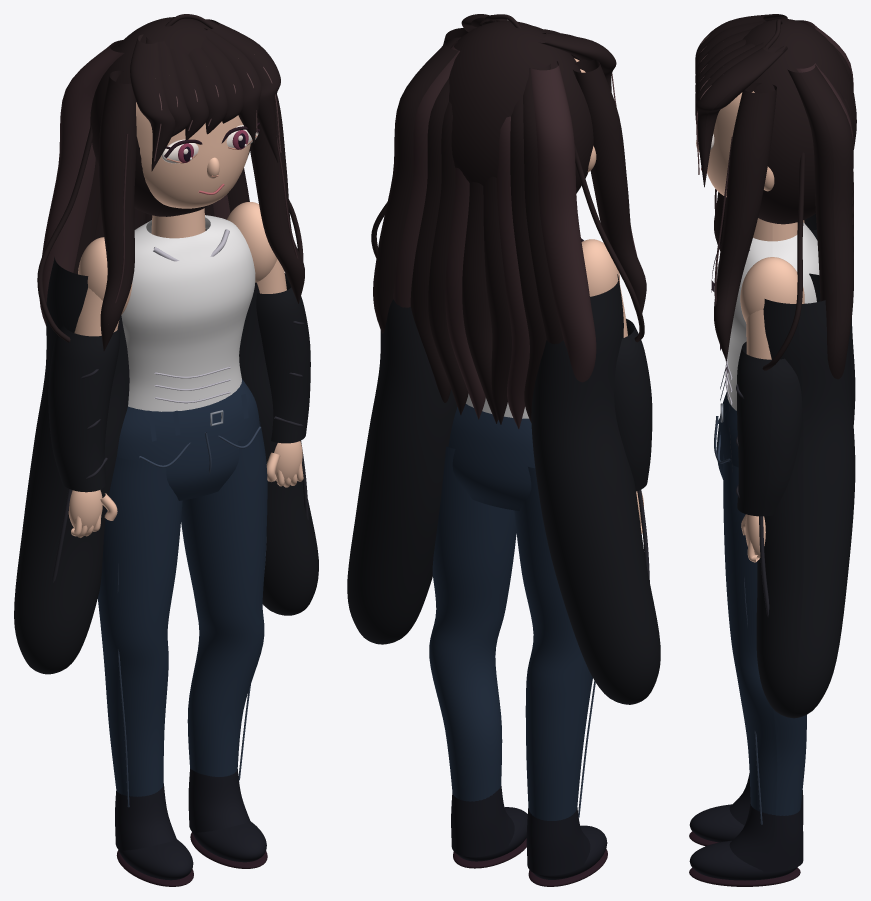
File: nico_lady_luck.glb
3 renders of one model, left to right at view 1: azimuth 30°, elevation 25°; view 2: azimuth 150°, elevation 25°; view 3: azimuth 270°, elevation 25°, orthographic. The views are drawn at different scales.
Visible parts, largest first — view 1: Slim dark jeans leg (×2), Long open coat tail (×2), White sleeveless top, Loose fallen coat sleeve (×2), Pointed swept fringe (×7), Long face framing lock (×2), Fitted denim hips, Long tapered back hair (×2), Ankle boot (×2), Tapered face, Hair volume behind head, Rounded boot toe (×2) (+6 smaller); view 2: Long tapered back hair (×11), Long open coat tail (×2), Slim dark jeans leg (×2), Hair volume behind head, Fitted denim hips, Ankle boot (×2), Long face framing lock, Loose fallen coat sleeve, Rounded boot toe (×2), Bare shoulder, Pointed swept fringe, Boot sole (×2) (+1 smaller); view 3: Long open coat tail (×2), Slim dark jeans leg, Long tapered back hair, Hair volume behind head, Loose fallen coat sleeve, Long face framing lock (×2), Pointed swept fringe (×7), Ankle boot (×2), White sleeveless top, Rounded boot toe (×2), Bare shoulder, Tapered face (+8 smaller).
Part boxes in pixels (x1,y1,x2,y2): Slim dark jeans leg (×2): (97, 422, 267, 796); Long open coat tail (×2): (14, 229, 318, 674); White sleeveless top: (121, 215, 255, 411); Loose fallen coat sleeve (×2): (48, 273, 310, 492); Pointed swept fringe (×7): (130, 19, 280, 171); Long face framing lock (×2): (99, 70, 304, 350); Fitted denim hips: (117, 379, 259, 500); Long tapered back hair (×2): (39, 40, 124, 325); Ankle boot (×2): (115, 769, 250, 852); Tapered face: (136, 102, 250, 208); Hair volume behind head: (90, 17, 251, 216); Rounded boot toe (×2): (119, 821, 266, 880); Long tapered back hair (×11): (373, 37, 596, 428); Long open coat tail (×2): (347, 274, 660, 704); Slim dark jeans leg (×2): (429, 446, 592, 820); Hair volume behind head: (449, 21, 593, 193); Fitted denim hips: (448, 404, 535, 510); Ankle boot (×2): (451, 786, 590, 875); Long face framing lock: (573, 59, 646, 312); Loose fallen coat sleeve: (614, 318, 652, 491); Rounded boot toe (×2): (457, 807, 607, 879); Bare shoulder: (581, 239, 619, 296); Pointed swept fringe: (539, 32, 616, 91); Boot sole (×2): (453, 838, 607, 886); Long open coat tail (×2): (756, 214, 855, 718); Slim dark jeans leg: (723, 454, 806, 815); Long tapered back hair: (787, 65, 853, 379); Hair volume behind head: (742, 18, 856, 224); Loose fallen coat sleeve: (737, 341, 802, 516); Long face framing lock (×2): (714, 83, 776, 361); Pointed swept fringe (×7): (695, 14, 787, 187); Ankle boot (×2): (729, 773, 803, 873); White sleeveless top: (714, 222, 819, 410); Rounded boot toe (×2): (689, 804, 797, 880); Bare shoulder: (740, 257, 804, 321); Tapered face: (707, 91, 754, 197).
Bounding box in the file's own units: 1.12 × 3.03 × 0.547.
